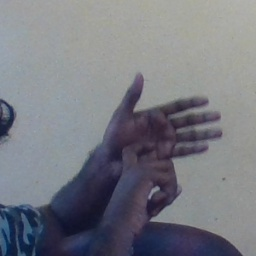R: (89, 66, 225, 212)
